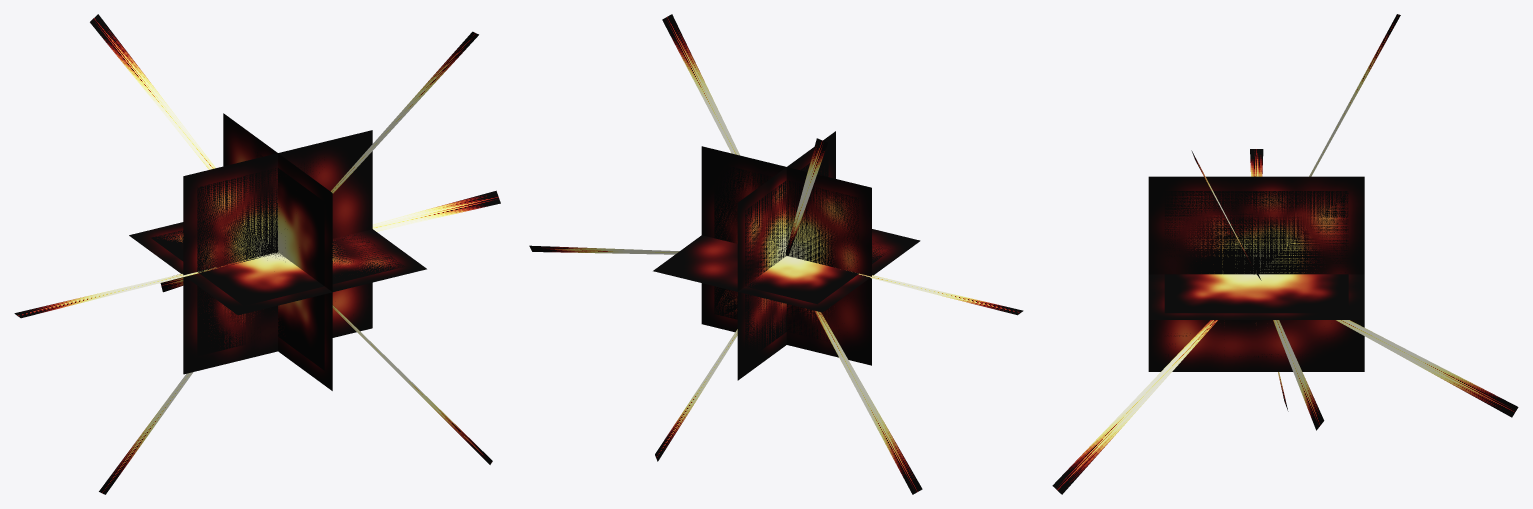
3 renders of one model, left to right at view 1: azimuth 30°, elevation 25°; view 2: azimuth 150°, elevation 25°; view 3: azimuth 270°, elevation 25°, orthographic. The views are drawn at different scales.
Parts seen in each view (by area): view 1: ring, main, hikari; view 2: ring, main, hikari; view 3: ring, main, hikari.
Part boxes in pixels (left/top/right/bottom): ring: left=129, top=113, right=426, bottom=390; main: left=151, top=152, right=404, bottom=370; hikari: left=14, top=14, right=500, bottom=494; ring: left=653, top=131, right=920, bottom=380; main: left=714, top=149, right=886, bottom=361; hikari: left=529, top=14, right=1023, bottom=494; ring: left=1148, top=176, right=1364, bottom=371; main: left=1164, top=191, right=1348, bottom=357; hikari: left=1052, top=14, right=1518, bottom=494.
Size of the model in its own units: 636 by 505 by 507.
Materials: 3 (3 with a texture image).
